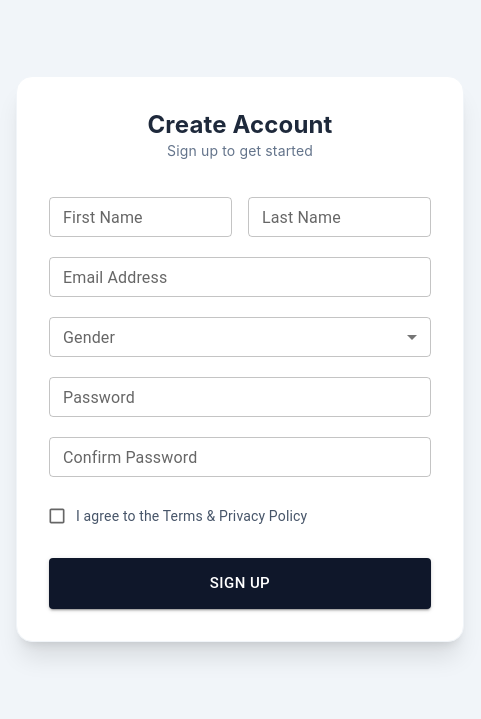
Test: SignUpForm › shows validation errors when submitting empty form
Click the button "Sign Up" at point(240, 584), box [49,558,431,609]
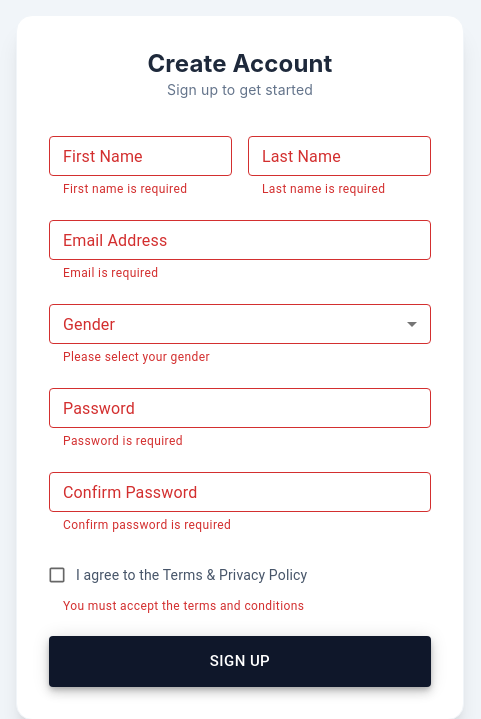
Expected: the text "First name is required" is shown, [63,182,187,196]
Expected: the text "Email is required" is shown, [63,266,158,280]
Expected: the text "Password is required" is shown, [63,434,183,448]
